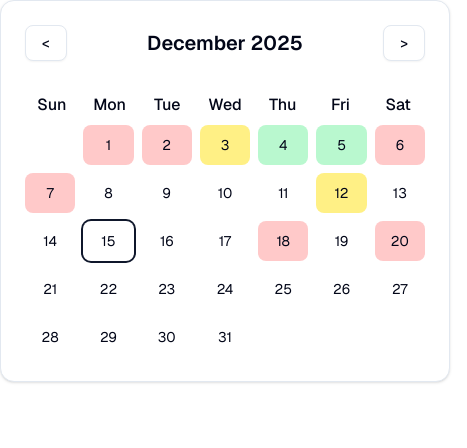
Test case: CalendarMonthView › retains colors after navigating to a different month and back
The width and height of the screenshot is (467, 448).
Note: Navigate away
Step 1. Click the button "<" → (46, 43), box 25,25 -> 67,61
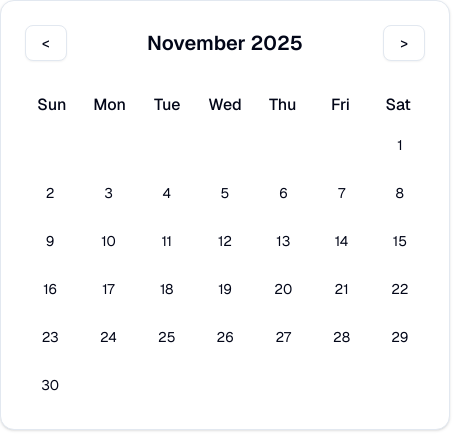
Result: the text "November 2025" is shown at 147,29 -> 303,57
Note: Navigate back
Step 2. Click the button ">" → (404, 43), box 383,25 -> 425,61
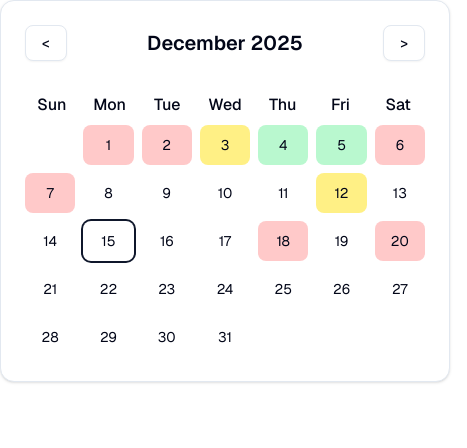
Result: the text "December 2025" is shown at 147,29 -> 303,57
